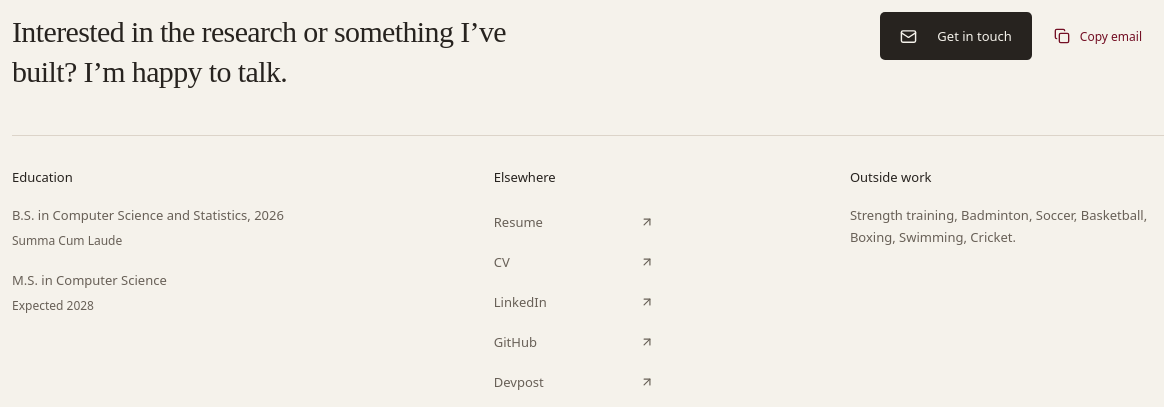
Test: Contact › confirms successful copying and leaves the email link usable after failure
This screenshot has width=1164, height=407.
Click the button "Copy email": (1098, 36) left=1054, top=14, right=1142, bottom=58
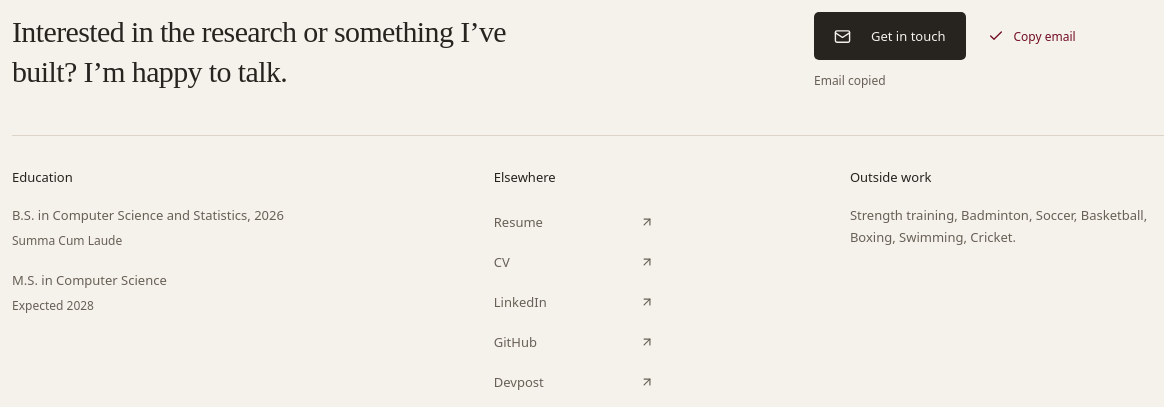
Expected: the message "Email copied" is shown, left=814, top=72, right=886, bottom=89
Click the button "Copy email": (1032, 36) left=988, top=14, right=1076, bottom=58
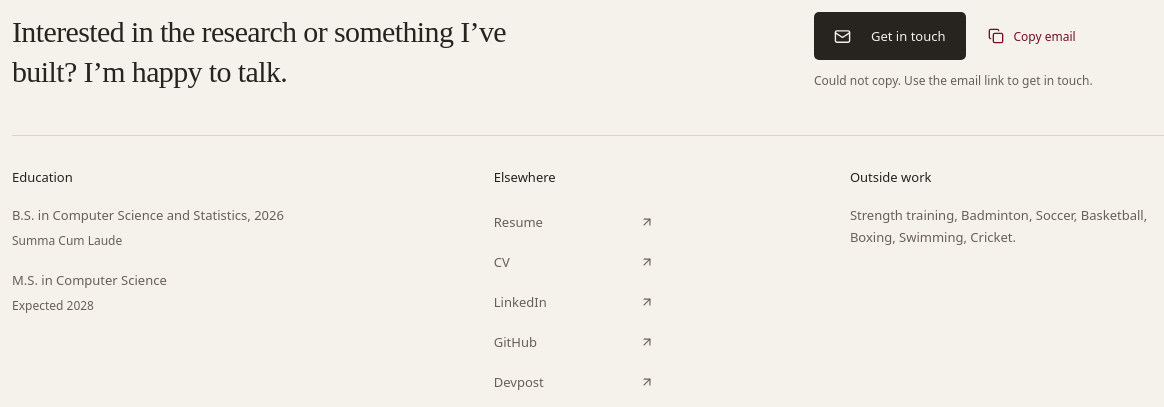
Expected: the link "Get in touch" is shown, left=814, top=12, right=966, bottom=60
Expected: the message "Could not copy. Use the email link to get in touch." is shown, left=814, top=72, right=1093, bottom=89
